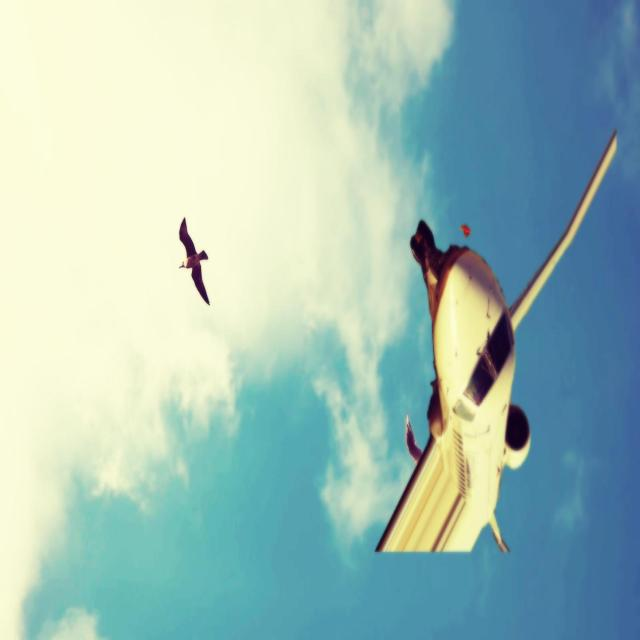airplane: (374, 126, 617, 554)
